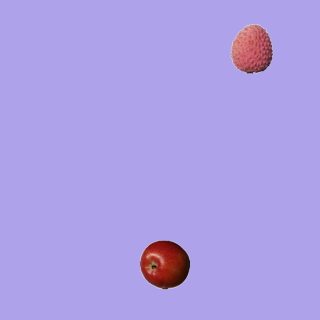Apple Braeburn: (139, 239, 189, 289)
Lychee: (226, 23, 276, 73)
